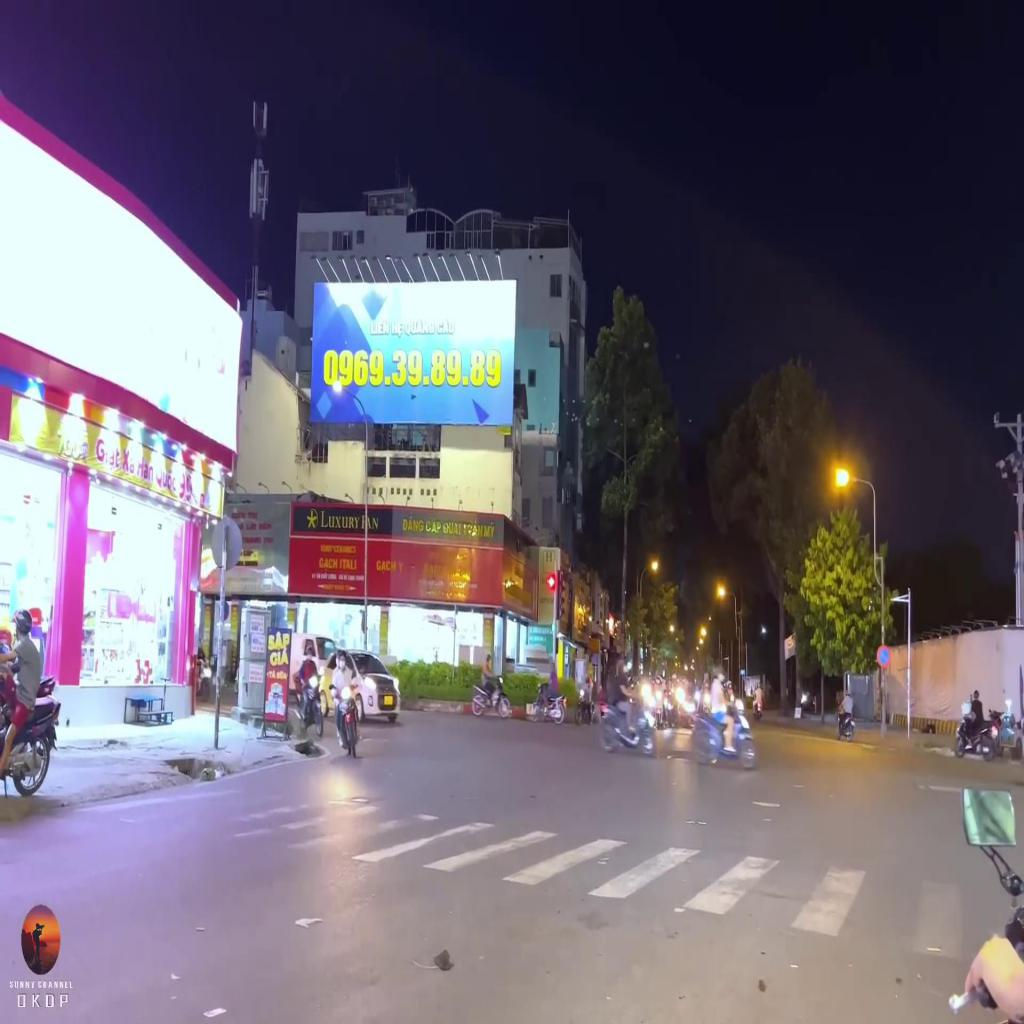cam_do_xe: (877, 645, 891, 668)
